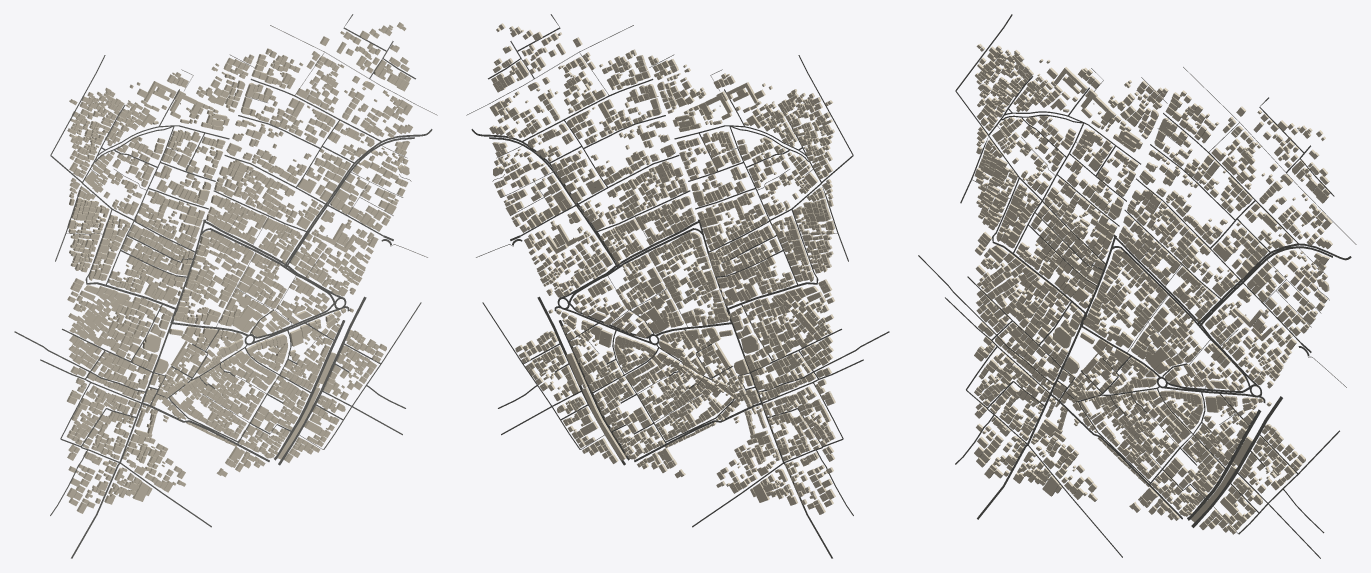
Rendered from historic-palestine-01_19_3430_3134.glb.
The picture shows the model from 3 angles, left to right: view 1: azimuth 30°, elevation 25°; view 2: azimuth 150°, elevation 25°; view 3: azimuth 330°, elevation 25°; orthographic projection. The views are drawn at different scales.
Parts seen in each view (by area): view 1: no part large enough to name; view 2: Building_.001; view 3: no part large enough to name.
Part boxes in pixels (bbox=[...]): Building_.001: bbox=[582, 387, 626, 460].
Bounding box in the file's own units: 1196 × 1346 × 8.7.
